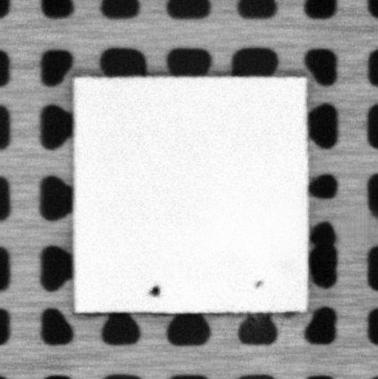DIE_INK: (148, 283, 162, 298), (253, 278, 265, 290)
